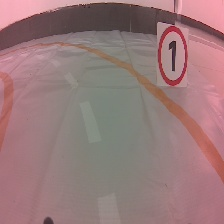limit: (153, 20, 192, 91)
